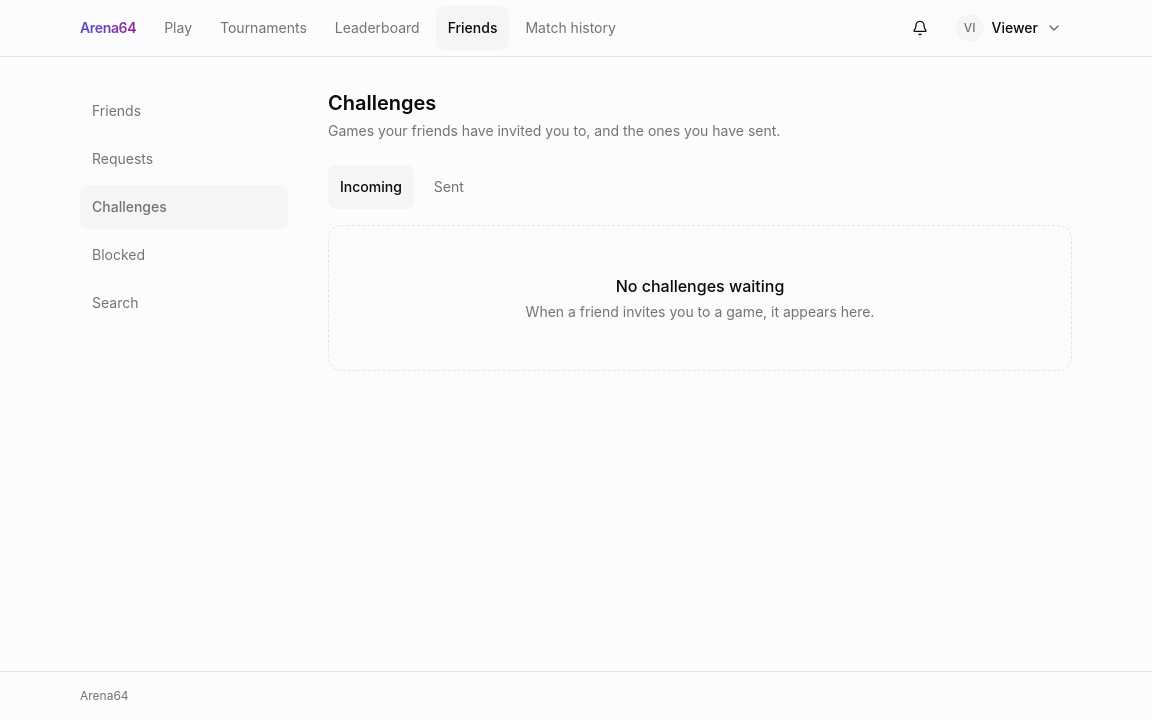
shows sent challenges under their own tab, with cancel
expect the heading "No challenges waiting" is shown: met, box [616,274,784,298]
Click the tab "Sent": (449, 187) [422,165,476,209]
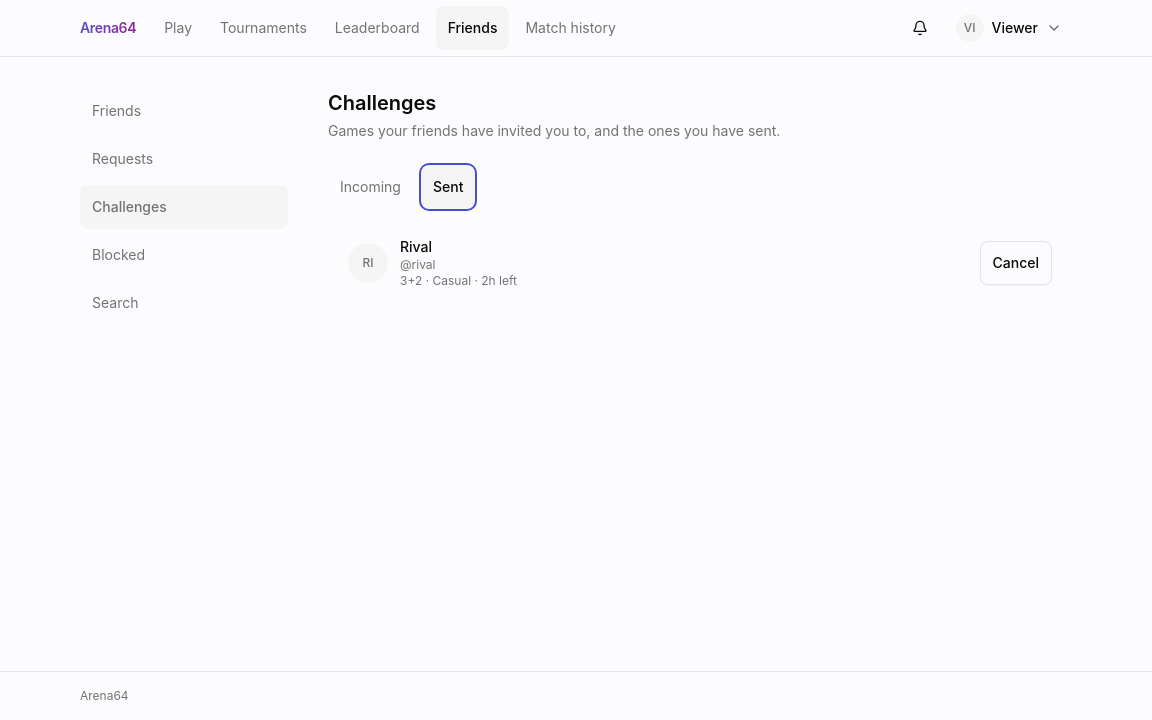
expect the button with aria-label "cancel the challenge to rival" is shown: met, box [980,241,1052,285]
